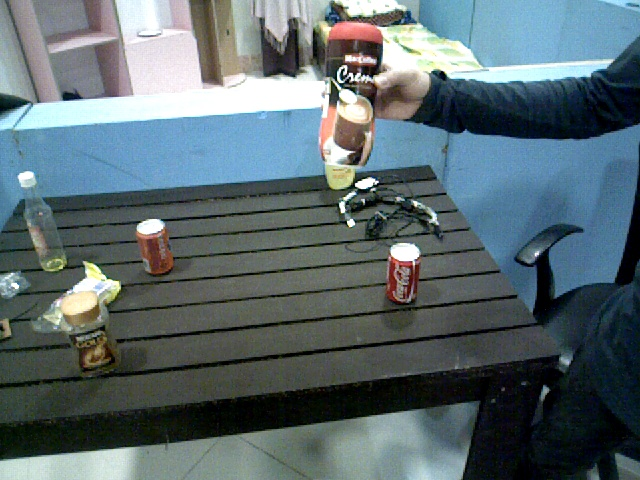coca: (389, 242, 418, 305)
coffee: (63, 291, 121, 380)
cream: (323, 19, 379, 169)
fanta: (137, 219, 173, 278)
